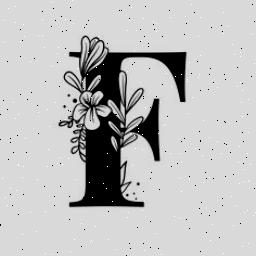f: (70, 32, 192, 218)
